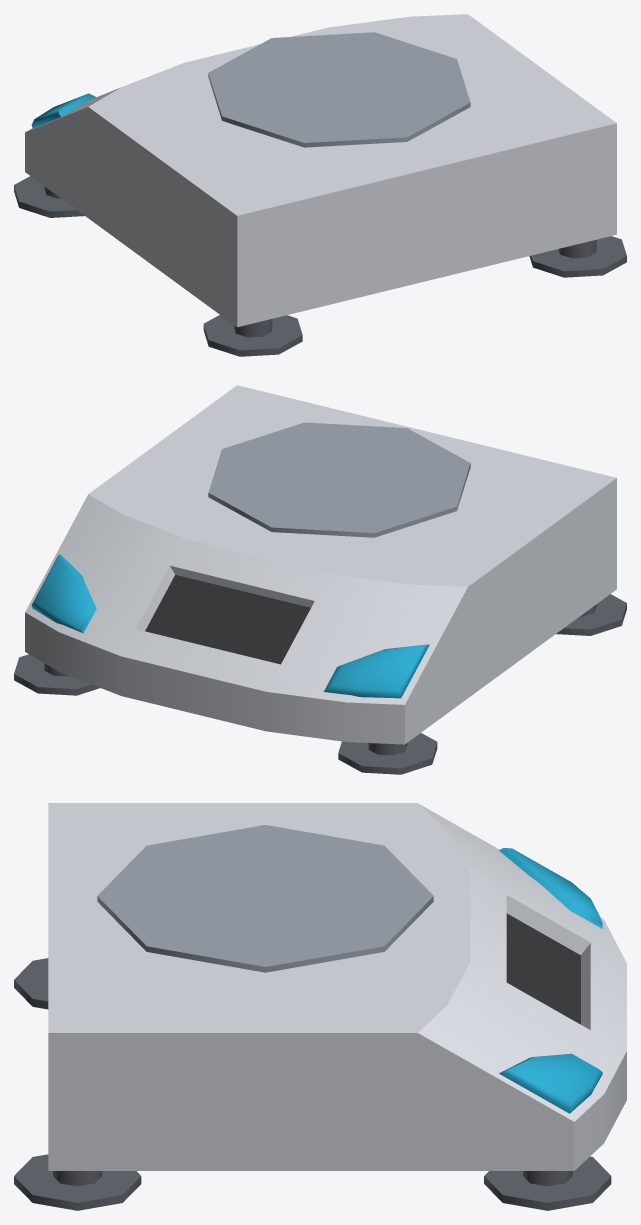
The model's file is machine_electronic_scale.glb.
3 views of the same model, one above another, from view 1: azimuth 30°, elevation 25°; view 2: azimuth 150°, elevation 25°; view 3: azimuth 270°, elevation 25° (orthographic). The views are drawn at different scales.
Visible parts, largest first — view 1: machine_electronic_scale, machine_electronic_scale_platform; view 2: machine_electronic_scale, machine_electronic_scale_platform; view 3: machine_electronic_scale, machine_electronic_scale_platform.
Boxes of the visible parts, x1,y1,x2,y2 form: machine_electronic_scale: [14, 14, 626, 356]; machine_electronic_scale_platform: [208, 32, 470, 147]; machine_electronic_scale: [14, 385, 626, 774]; machine_electronic_scale_platform: [208, 422, 470, 537]; machine_electronic_scale: [14, 803, 626, 1210]; machine_electronic_scale_platform: [97, 825, 433, 972].
Bounding box in the file's own units: 0.5082 × 0.18 × 0.5265.
1 material, 1 textured.
